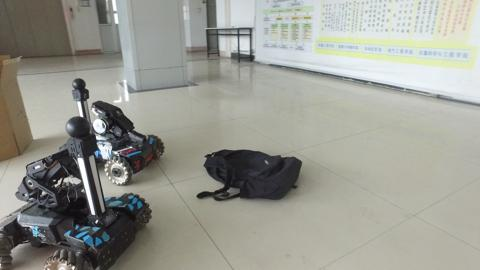chariot: (1, 121, 151, 266), (65, 76, 165, 179)
